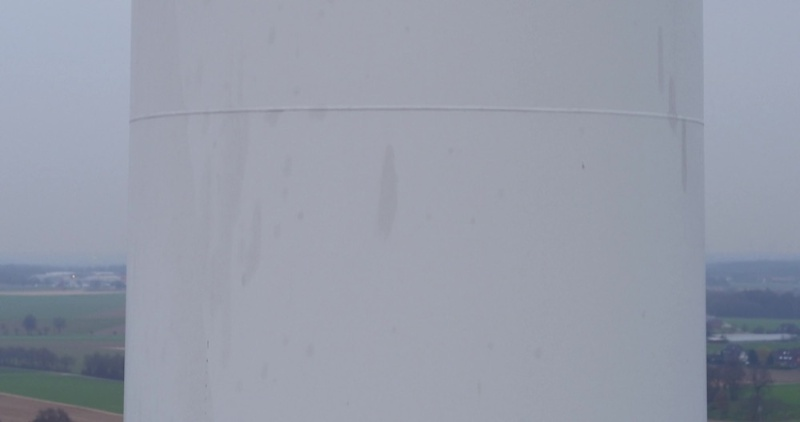weldseam: (130, 103, 706, 137)
